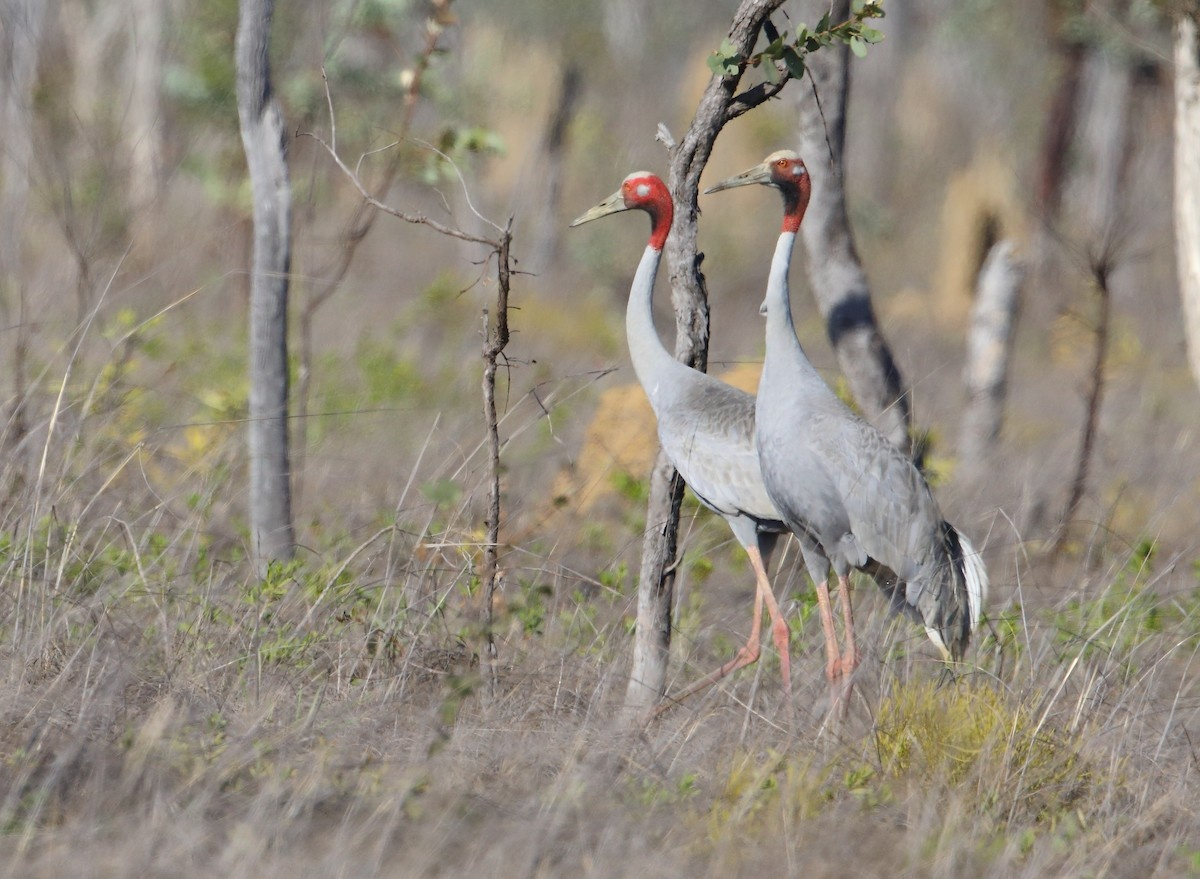crane: (708, 141, 979, 741), (558, 159, 747, 540)
